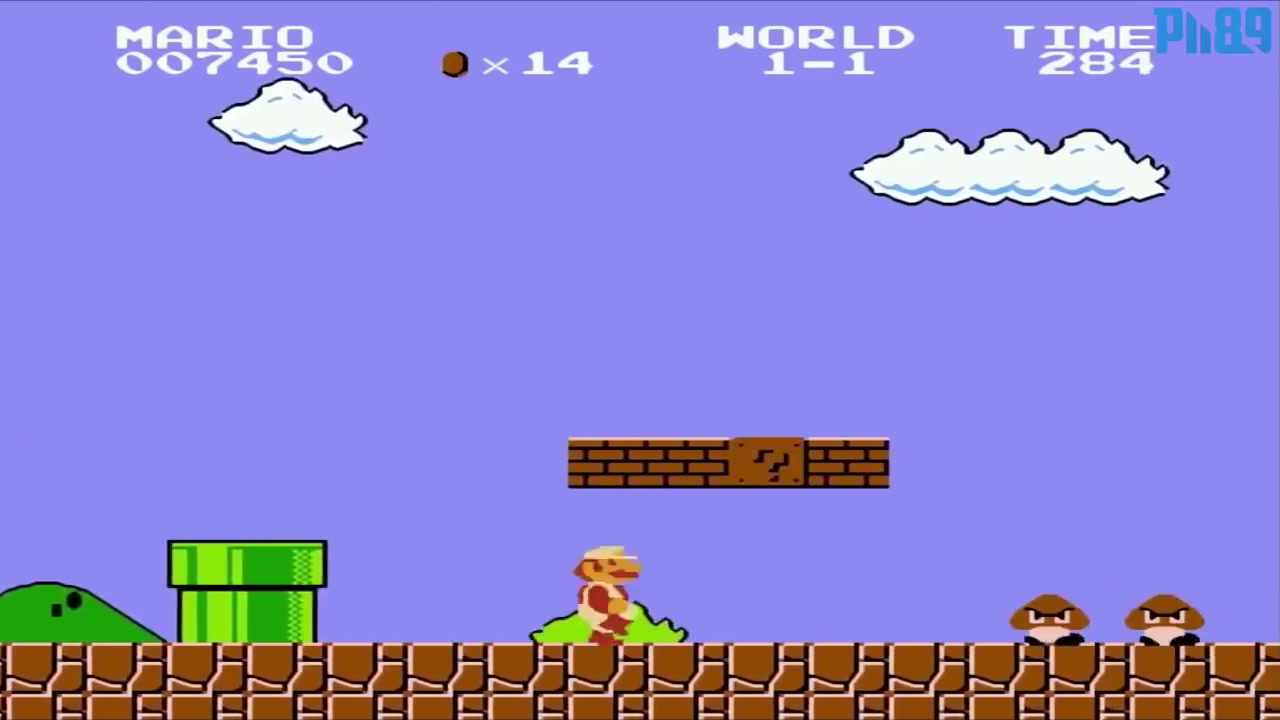mario: (556, 542, 662, 642)
